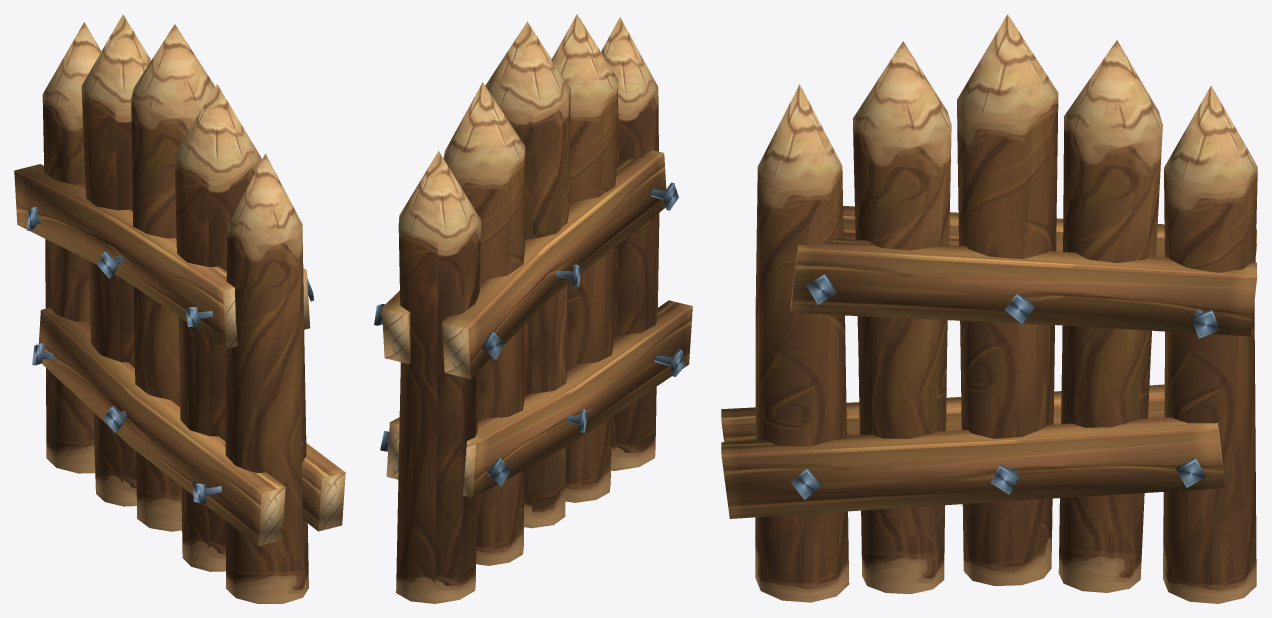
File: wooden_wall_02.fbx
The picture shows the model from 3 angles, left to right: view 1: azimuth 30°, elevation 25°; view 2: azimuth 150°, elevation 25°; view 3: azimuth 270°, elevation 25°; orthographic projection. The views are drawn at different scales.
Parts seen in each view (by area): view 1: wooden_wall_02; view 2: wooden_wall_02; view 3: wooden_wall_02.
Boxes of the visible parts, x1=… form: wooden_wall_02: x1=14, y1=14, x2=345, y2=603; wooden_wall_02: x1=374, y1=14, x2=692, y2=603; wooden_wall_02: x1=721, y1=14, x2=1257, y2=603.
Size of the model in its own units: 2.55 by 9.51 by 8.13.
